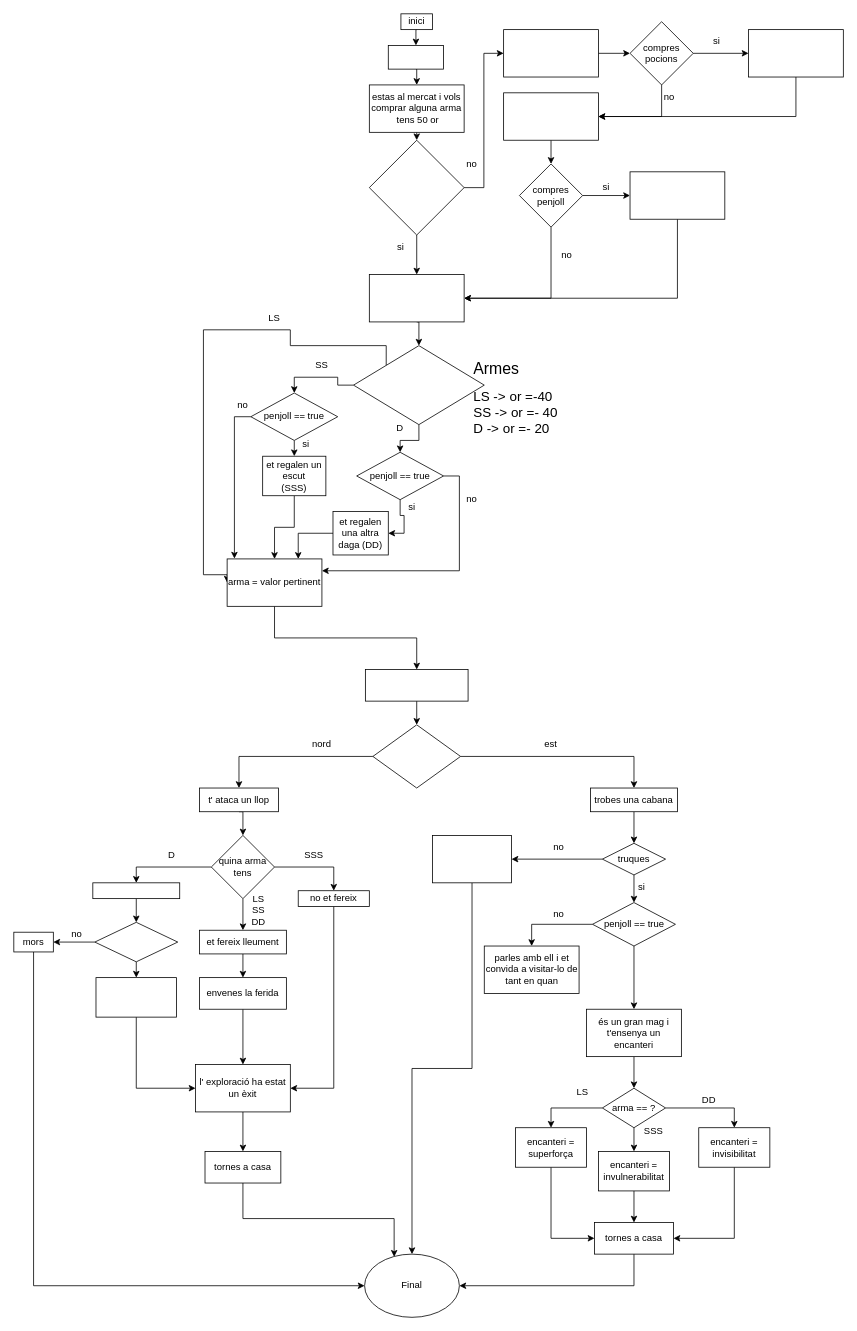
The diagram is 857 pixels wide and 1331 high, and some of its shapes have lost their labels. Here are the shapes that lost their labels. From the top down, the box of each, then its label:
(387, 45, 444, 69): int or = 50
(503, 29, 598, 77): veus pocions a la venta costen 10 or
(748, 29, 843, 77): pocio = true or = - 10
(503, 92, 598, 140): veus un penjoll amb form de lluna que et crida l'atenció
(369, 139, 464, 235): vas a la parada d'armes directament
(629, 171, 725, 219): penjoll = true or = -10
(369, 274, 464, 322): arribes parada d'armes
(353, 345, 484, 425): compres armes Espasa llarga (LS) Espasa curta (SS) Daga (D)
(365, 669, 468, 701): vas al bosc a explorar
(372, 724, 461, 788): explores nord o est
(432, 835, 512, 883): el mag que hi viu et converteix en gripau
(92, 882, 180, 899): et fereix greument
(94, 922, 178, 962): pocio == true
(95, 977, 177, 1017): pocio = false et cura la poció
